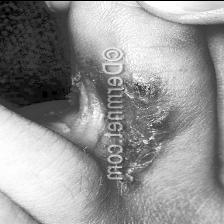Toxin: (128, 66, 174, 181), (44, 74, 102, 142)
